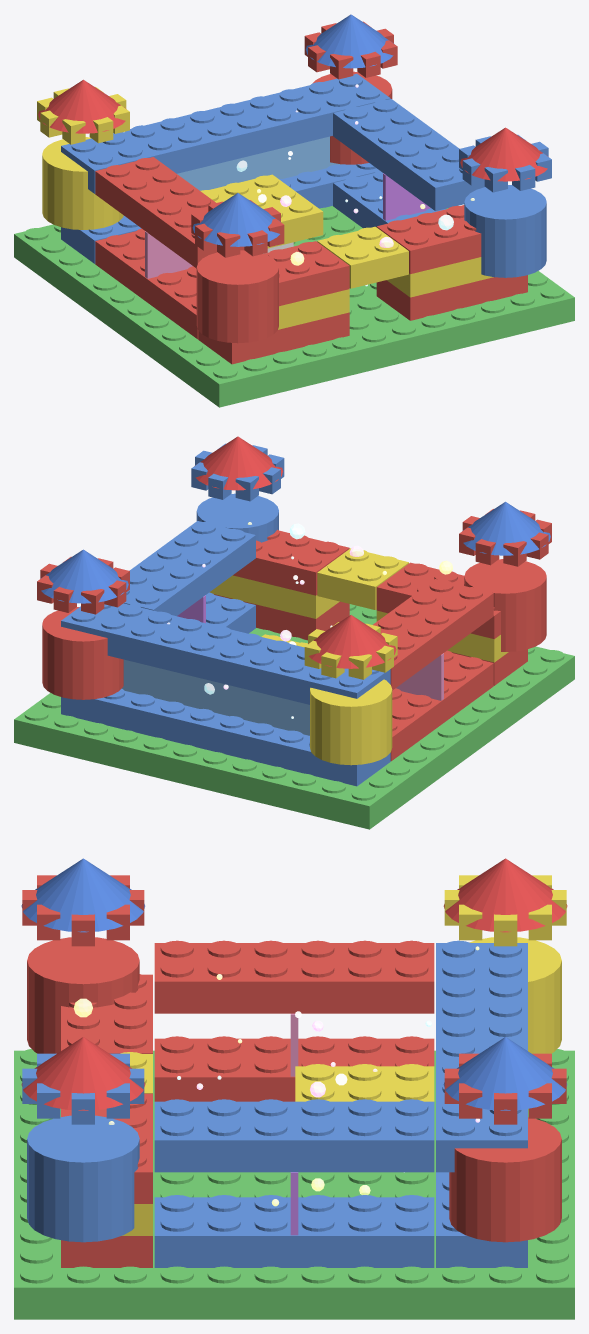
The model's file is duplo_castle.glb.
3 views of the same model, one above another, from view 1: azimuth 30°, elevation 25°; view 2: azimuth 150°, elevation 25°; view 3: azimuth 270°, elevation 25° (orthographic). The views are drawn at different scales.
Parts seen in each view (by area): view 1: base_body, bwall_top_body, tower_0_body, tower_1_body, rwall_top_body, lwall_top_body, tower_2_body, bwall_trans_panel, lwall_1_body, fwall_R1_body, fwall_L1_body, fwall_R3_body (+14 smaller); view 2: base_body, bwall_top_body, bwall_1_body, tower_2_body, bwall_trans_panel, tower_3_body, rwall_top_body, tower_0_body, lwall_top_body, lwall_1_body, fwall_R3_body, tower_1_body (+12 smaller); view 3: base_body, rwall_top_body, lwall_top_body, rwall_1_body, tower_1_body, tower_3_body, bwall_top_body, tower_0_body, lwall_1_body, tower_1_roof, tower_3_roof, tower_0_roof (+20 smaller).
Part boxes in pixels (x1=…): base_body: x1=14, y1=206, x2=574, y2=407; bwall_top_body: x1=61, y1=73, x2=390, y2=193; tower_0_body: x1=196, y1=250, x2=278, y2=343; tower_1_body: x1=464, y1=185, x2=546, y2=277; rwall_top_body: x1=333, y1=99, x2=484, y2=211; lwall_top_body: x1=95, y1=157, x2=244, y2=268; tower_2_body: x1=42, y1=137, x2=123, y2=229; bwall_trans_panel: x1=123, y1=136, x2=341, y2=215; lwall_1_body: x1=95, y1=231, x2=198, y2=339; fwall_R1_body: x1=376, y1=275, x2=527, y2=320; fwall_L1_body: x1=198, y1=312, x2=349, y2=364; fwall_R3_body: x1=376, y1=205, x2=481, y2=273; base_body: x1=14, y1=605, x2=574, y2=829; bwall_top_body: x1=61, y1=603, x2=390, y2=704; bwall_1_body: x1=61, y1=691, x2=390, y2=786; tower_2_body: x1=310, y1=679, x2=392, y2=765; bwall_trans_panel: x1=122, y1=659, x2=309, y2=735; tower_3_body: x1=42, y1=607, x2=123, y2=699; rwall_top_body: x1=124, y1=521, x2=255, y2=616; tower_0_body: x1=464, y1=559, x2=546, y2=651; lwall_top_body: x1=373, y1=579, x2=493, y2=690; lwall_1_body: x1=390, y1=653, x2=493, y2=761; fwall_R3_body: x1=233, y1=530, x2=349, y2=595; tower_1_body: x1=196, y1=493, x2=278, y2=542; base_body: x1=14, y1=1050, x2=574, y2=1319; rwall_top_body: x1=154, y1=1101, x2=434, y2=1172; lwall_top_body: x1=154, y1=943, x2=434, y2=1013; rwall_1_body: x1=154, y1=1197, x2=434, y2=1267; tower_1_body: x1=27, y1=1115, x2=139, y2=1242; tower_3_body: x1=449, y1=1117, x2=561, y2=1242; bwall_top_body: x1=436, y1=943, x2=527, y2=1172; tower_0_body: x1=27, y1=937, x2=139, y2=1053; lwall_1_body: x1=154, y1=1038, x2=434, y2=1101; tower_1_roof: x1=21, y1=1037, x2=145, y2=1110; tower_3_roof: x1=443, y1=1037, x2=567, y2=1110; tower_0_roof: x1=21, y1=858, x2=145, y2=932.
Size of the model in its own units: 11.96 by 5.96 by 11.96.
